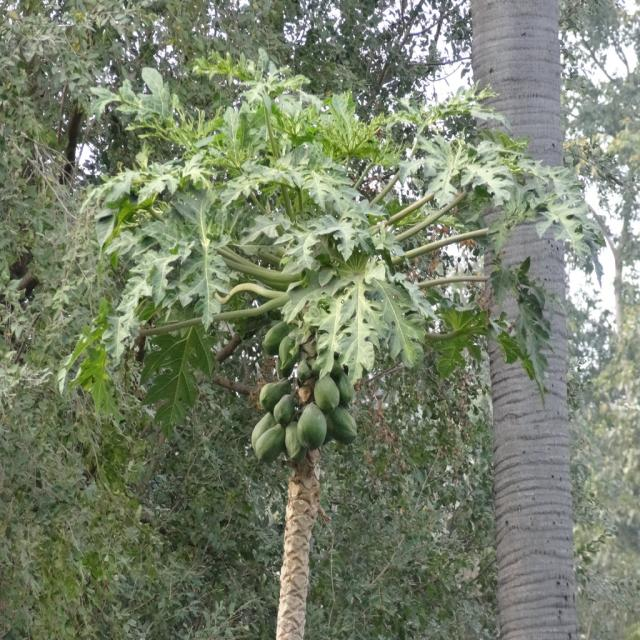Papaya-Tree: (125, 66, 602, 622)
